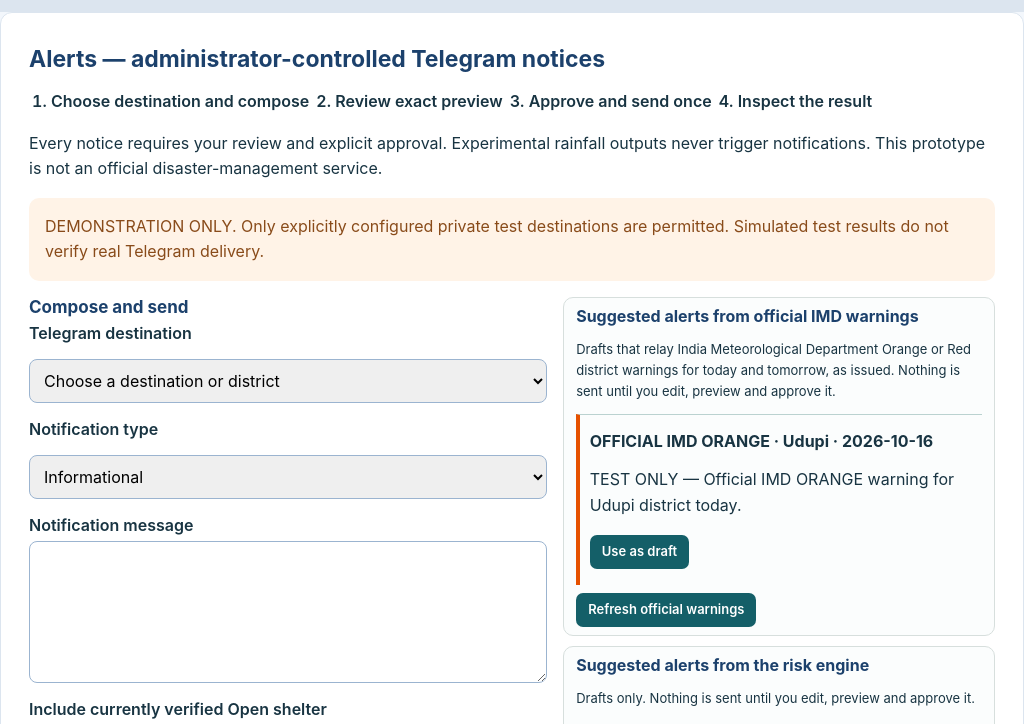
Test: official IMD drafts only fill the composer; nothing is previewed or sent automatically
Expected: the text "OFFICIAL IMD ORANGE · Udupi · 2026-10-16" is shown, [590,431,933,451]
Click the button "Use as draft".
click(639, 552)  # box [590,534,689,568]
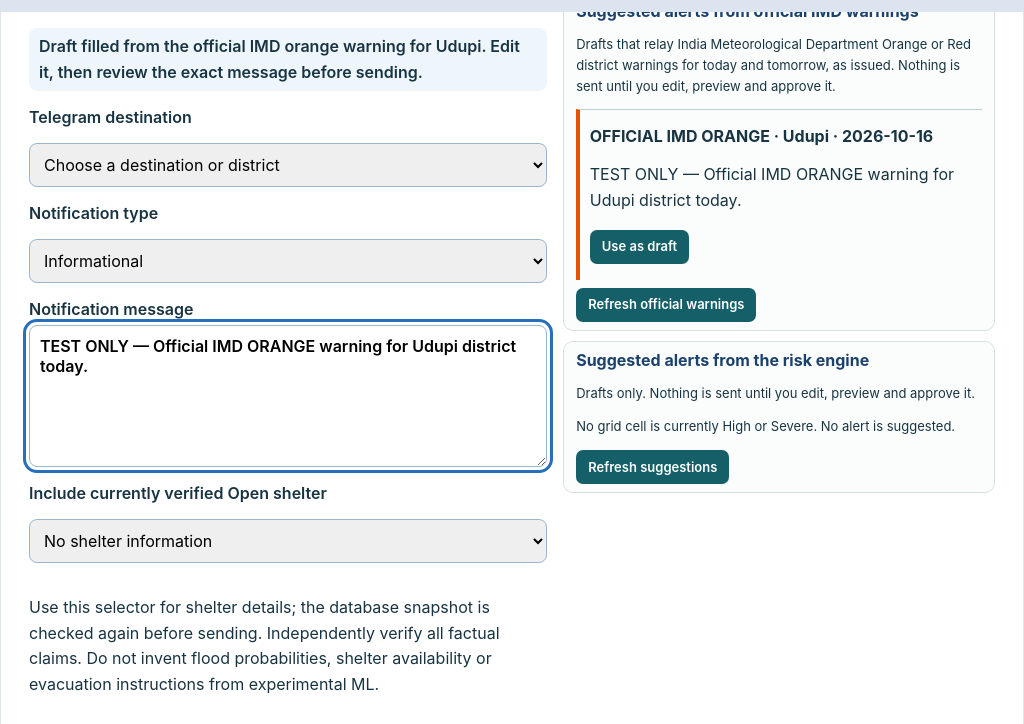
Now the text box labelled "Notification message" holds "TEST ONLY — Official IMD ORANGE warning for Udupi district today.", box [29,325,547,467]
